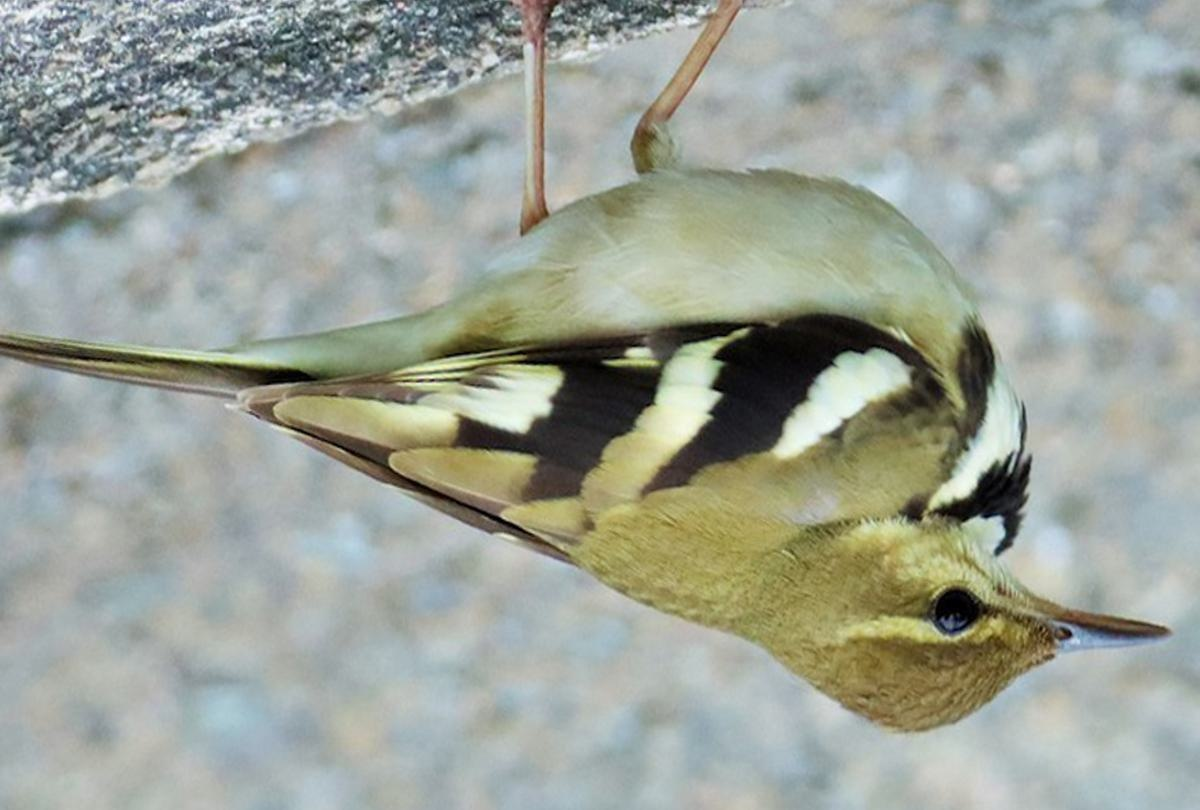wagtail: (193, 98, 1144, 740)
